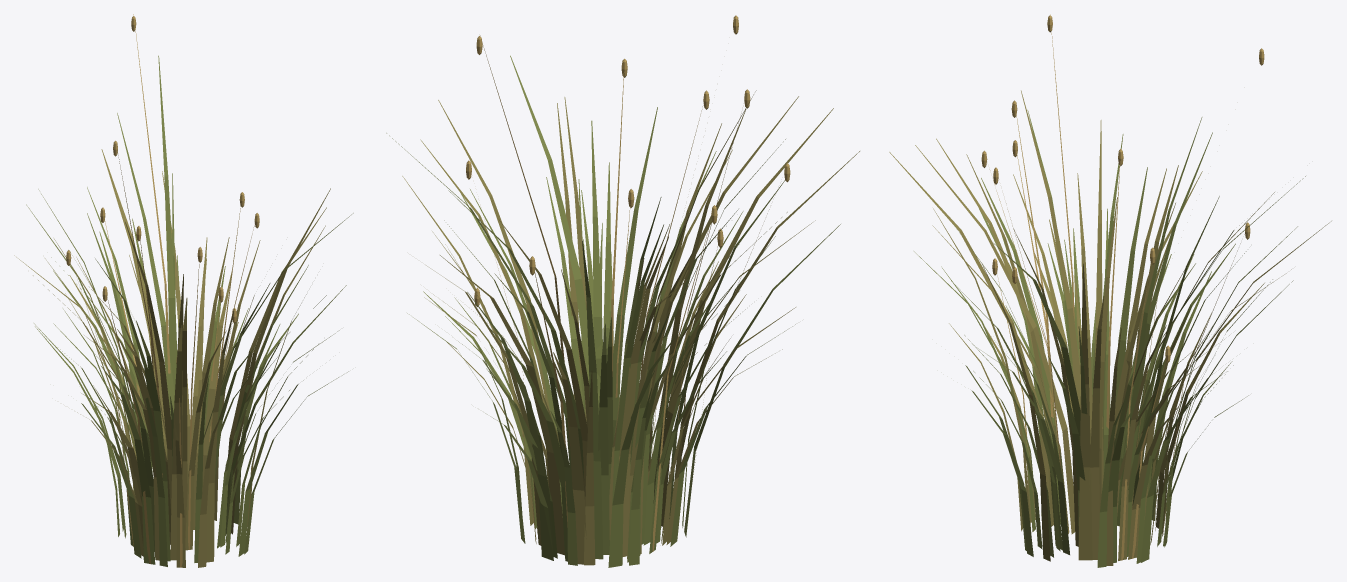
File: prairie_bunchgrass_v1.glb
3 renders of one model, left to right at view 1: azimuth 30°, elevation 25°; view 2: azimuth 150°, elevation 25°; view 3: azimuth 270°, elevation 25°, orthographic. The views are drawn at different scales.
Visible parts, largest first — view 1: prairie_bunchgrass_v1; view 2: prairie_bunchgrass_v1; view 3: prairie_bunchgrass_v1.
Part boxes in pixels (x1=…): prairie_bunchgrass_v1: x1=14, y1=14, x2=353, y2=567; prairie_bunchgrass_v1: x1=386, y1=15, x2=859, y2=567; prairie_bunchgrass_v1: x1=889, y1=14, x2=1331, y2=567.
Bounding box in the file's own units: 0.6757 × 0.9648 × 0.7671.
